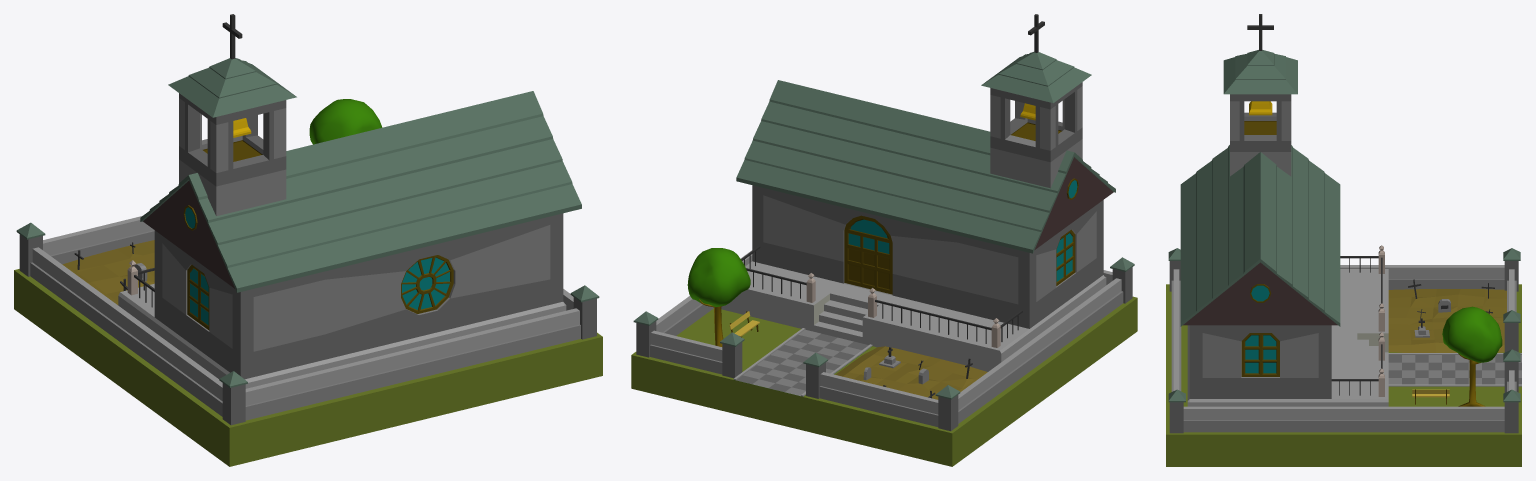
Rendered from Church.fbx.
3 views of the same model, side by side, from view 1: azimuth 30°, elevation 25°; view 2: azimuth 150°, elevation 25°; view 3: azimuth 270°, elevation 25° (orthographic). The views are drawn at different scales.
Parts seen in each view (by area): view 1: Ch_roof_3, Ch_Walls_1, Ch_ground, Ch_fence_8, Ch_Walls_2, Ch_roof_4, Ch_graveyard_10, Ch_Doors_5, Ch_Park_9, Ch_Windows_6; view 2: Ch_Walls_1, Ch_roof_3, Ch_ground, Ch_fence_8, Ch_Park_9, Ch_Walls_2, Ch_graveyard_10, Ch_roof_4, Ch_Doors_5, Ch_porch_7, Ch_Windows_6; view 3: Ch_roof_3, Ch_Walls_1, Ch_fence_8, Ch_ground, Ch_Park_9, Ch_graveyard_10, Ch_Walls_2, Ch_roof_4, Ch_Windows_6, Ch_porch_7.
Part boxes in pixels (x1,y1,x2,y2): Ch_roof_3: (140, 91, 581, 292); Ch_Walls_1: (118, 213, 566, 388); Ch_ground: (14, 269, 602, 466); Ch_fence_8: (16, 216, 599, 425); Ch_Walls_2: (179, 93, 286, 216); Ch_roof_4: (168, 14, 296, 137); Ch_graveyard_10: (62, 240, 154, 304); Ch_Doors_5: (401, 255, 453, 313); Ch_Park_9: (309, 99, 382, 144); Ch_Windows_6: (187, 264, 209, 330); Ch_Walls_1: (721, 185, 1106, 371); Ch_roof_3: (736, 80, 1115, 253); Ch_ground: (631, 296, 1137, 466); Ch_fence_8: (633, 250, 1134, 431); Ch_Park_9: (687, 248, 872, 396); Ch_Walls_2: (990, 82, 1082, 188); Ch_graveyard_10: (835, 346, 987, 399); Ch_roof_4: (981, 14, 1091, 120); Ch_Doors_5: (844, 215, 892, 294); Ch_porch_7: (741, 246, 1022, 347); Ch_Windows_6: (1056, 229, 1075, 285); Ch_roof_3: (1180, 145, 1340, 326); Ch_Walls_1: (1187, 269, 1388, 406); Ch_fence_8: (1168, 248, 1520, 433); Ch_ground: (1166, 284, 1521, 466); Ch_Park_9: (1388, 306, 1521, 406); Ch_graveyard_10: (1388, 279, 1506, 352); Ch_Walls_2: (1230, 94, 1291, 176); Ch_roof_4: (1223, 14, 1297, 115); Ch_Windows_6: (1241, 333, 1279, 376); Ch_porch_7: (1331, 245, 1384, 396).
Bounding box in the file's own units: 10 × 10.11 × 10.
